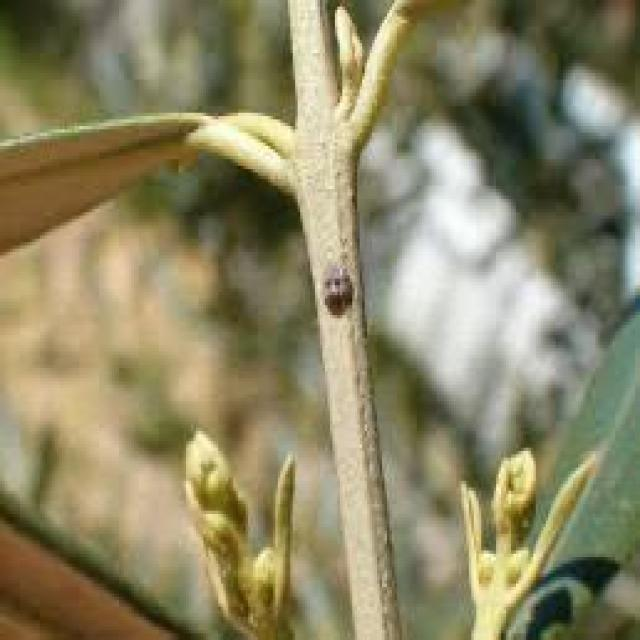BlackScale: (322, 265, 352, 315)
